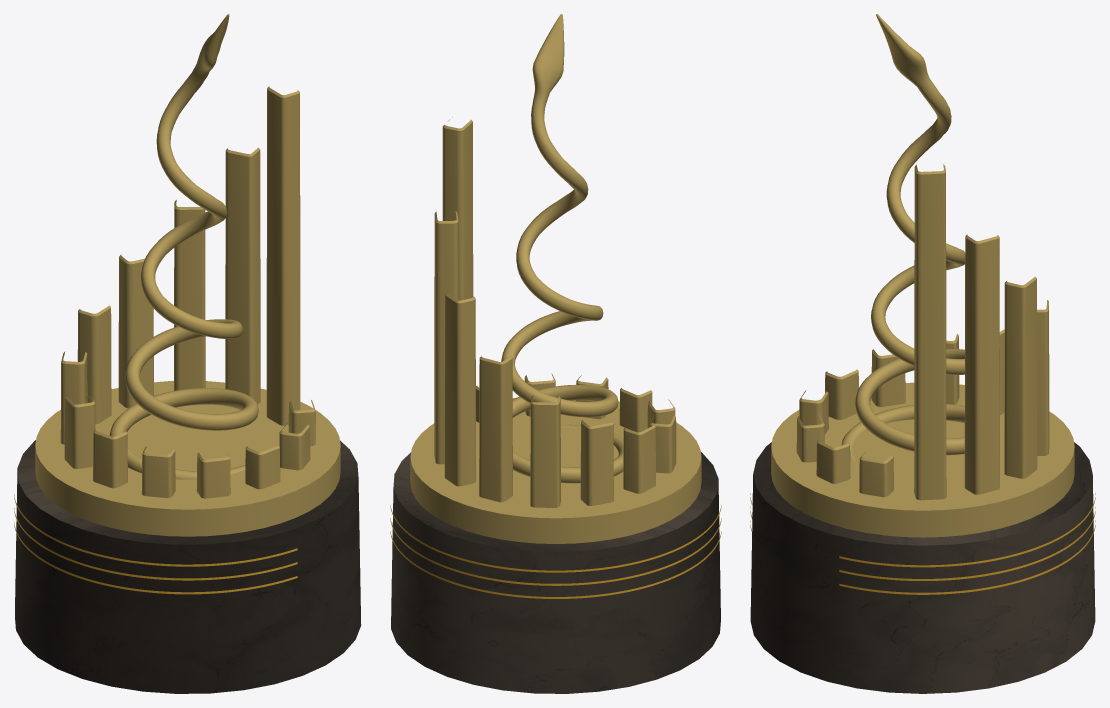
Rendered from economics.glb.
3 renders of one model, left to right at view 1: azimuth 30°, elevation 25°; view 2: azimuth 150°, elevation 25°; view 3: azimuth 270°, elevation 25°, orthographic. The views are drawn at different scales.
Visible parts, largest first — view 1: marble_column, gold_cap, growth_arrow, bar_13, bar_12, bar_11, bar_10, bar_9, bar_7, bar_6, bar_5, bar_4 (+7 smaller); view 2: marble_column, gold_cap, growth_arrow, bar_11, bar_10, bar_13, bar_12, bar_9, bar_8, bar_7, bar_4, bar_6 (+3 smaller); view 3: marble_column, gold_cap, bar_13, growth_arrow, bar_12, bar_11, bar_10, bar_5, bar_1, bar_2, bar_6, bar_3 (+5 smaller).
Part boxes in pixels (box(x1,y1,x2,y2)): marble_column: box(15, 440, 361, 693); gold_cap: box(35, 381, 340, 536); growth_arrow: box(109, 14, 258, 479); bar_13: box(266, 86, 300, 425); bar_12: box(225, 147, 260, 404); bar_11: box(174, 200, 205, 390); bar_10: box(118, 254, 153, 408); bar_9: box(77, 305, 111, 424); bar_7: box(64, 393, 95, 468); bar_6: box(93, 429, 127, 488); bar_5: box(141, 446, 175, 498); bar_4: box(196, 451, 230, 498); marble_column: box(391, 452, 720, 693); gold_cap: box(410, 397, 701, 543); growth_arrow: box(501, 14, 623, 483); bar_11: box(444, 292, 475, 486); bar_10: box(479, 355, 512, 502); bar_13: box(442, 117, 473, 300); bar_12: box(434, 211, 458, 464); bar_9: box(530, 395, 560, 507); bar_8: box(580, 418, 613, 505); bar_7: box(623, 425, 655, 493); bar_4: box(619, 388, 652, 432); bar_6: box(649, 414, 676, 473); marble_column: box(750, 442, 1095, 693); gold_cap: box(771, 382, 1074, 537); bar_13: box(914, 164, 946, 500); growth_arrow: box(841, 14, 965, 462); bar_12: box(964, 234, 999, 494); bar_11: box(1004, 277, 1037, 478); bar_10: box(1037, 300, 1049, 455); bar_5: box(825, 369, 858, 419); bar_1: box(859, 452, 893, 497); bar_2: box(816, 439, 850, 483); bar_6: box(871, 349, 905, 406); bar_3: box(796, 414, 824, 462).
Size of what is drawn, in the model's own units: 0.4543 by 0.8921 by 0.4543.
3 materials, 1 textured.
